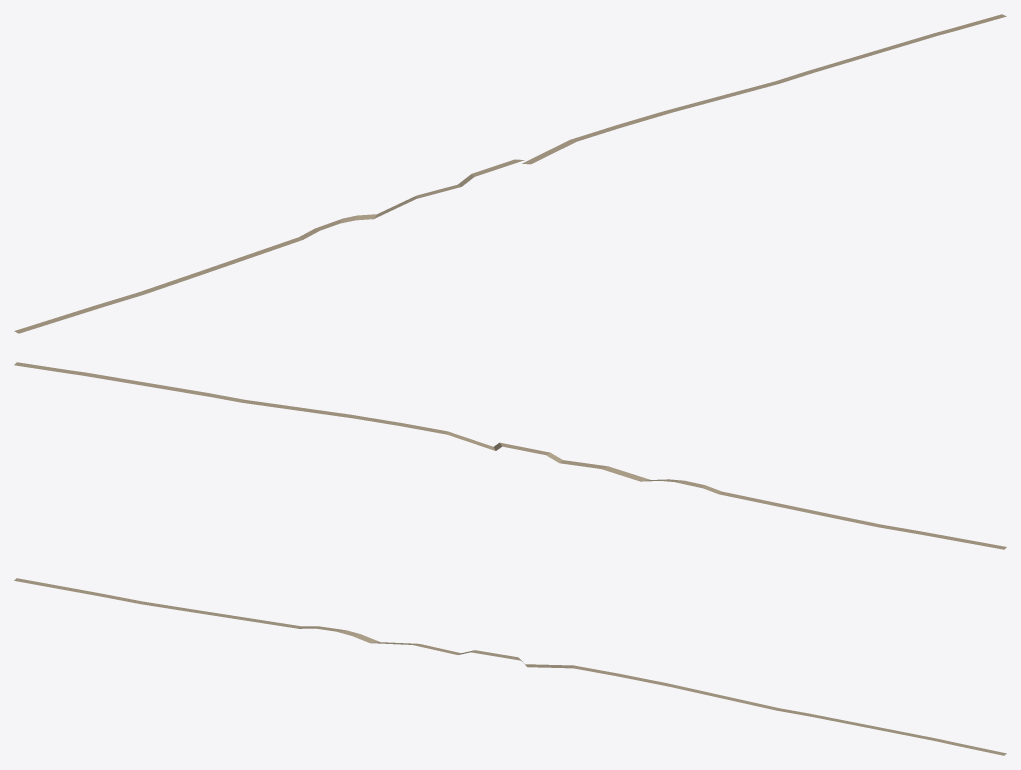
The model's file is farm_9_19_track.glb.
3 renders of one model, top to bottom at view 1: azimuth 30°, elevation 25°; view 2: azimuth 150°, elevation 25°; view 3: azimuth 330°, elevation 25°, orthographic. The views are drawn at different scales.
Parts seen in each view (by area): view 1: geometry_0; view 2: geometry_0; view 3: geometry_0.
Boxes of the visible parts, x1=… form: geometry_0: x1=14, y1=14, x2=1006, y2=333; geometry_0: x1=14, y1=362, x2=1006, y2=549; geometry_0: x1=14, y1=578, x2=1006, y2=755.
Bounding box in the file's own units: 498 × 7.47 × 62.04.
